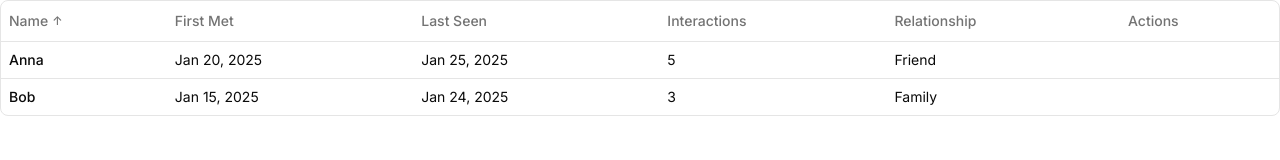
Scenario: Memory Table › table interactions › should toggle sort direction on second click
This screenshot has width=1280, height=160.
Click the text "Name" at [29, 21], box [9, 11, 48, 31]
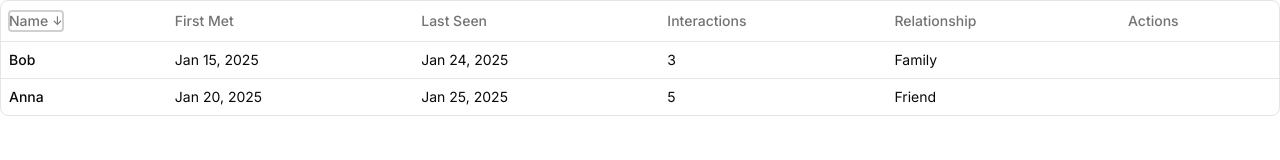
Result: the button with aria-label "Sorted by name descending" is shown at [9, 11, 62, 31]
Click the text "Name" at [29, 21], box [9, 11, 48, 31]
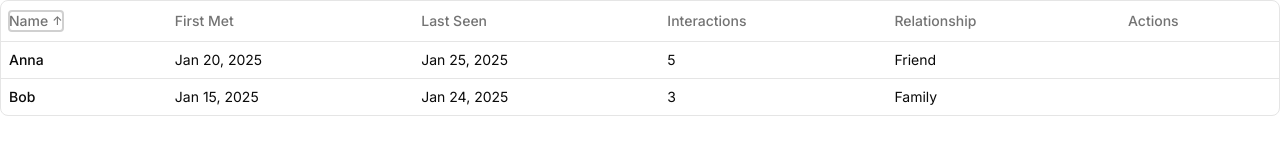
Result: the button with aria-label "Sorted by name ascending" is shown at [9, 11, 62, 31]
